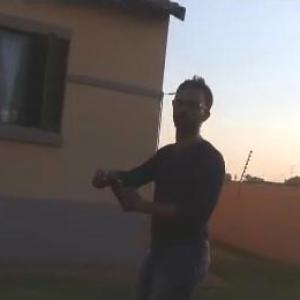follow: (86, 69, 229, 299)
